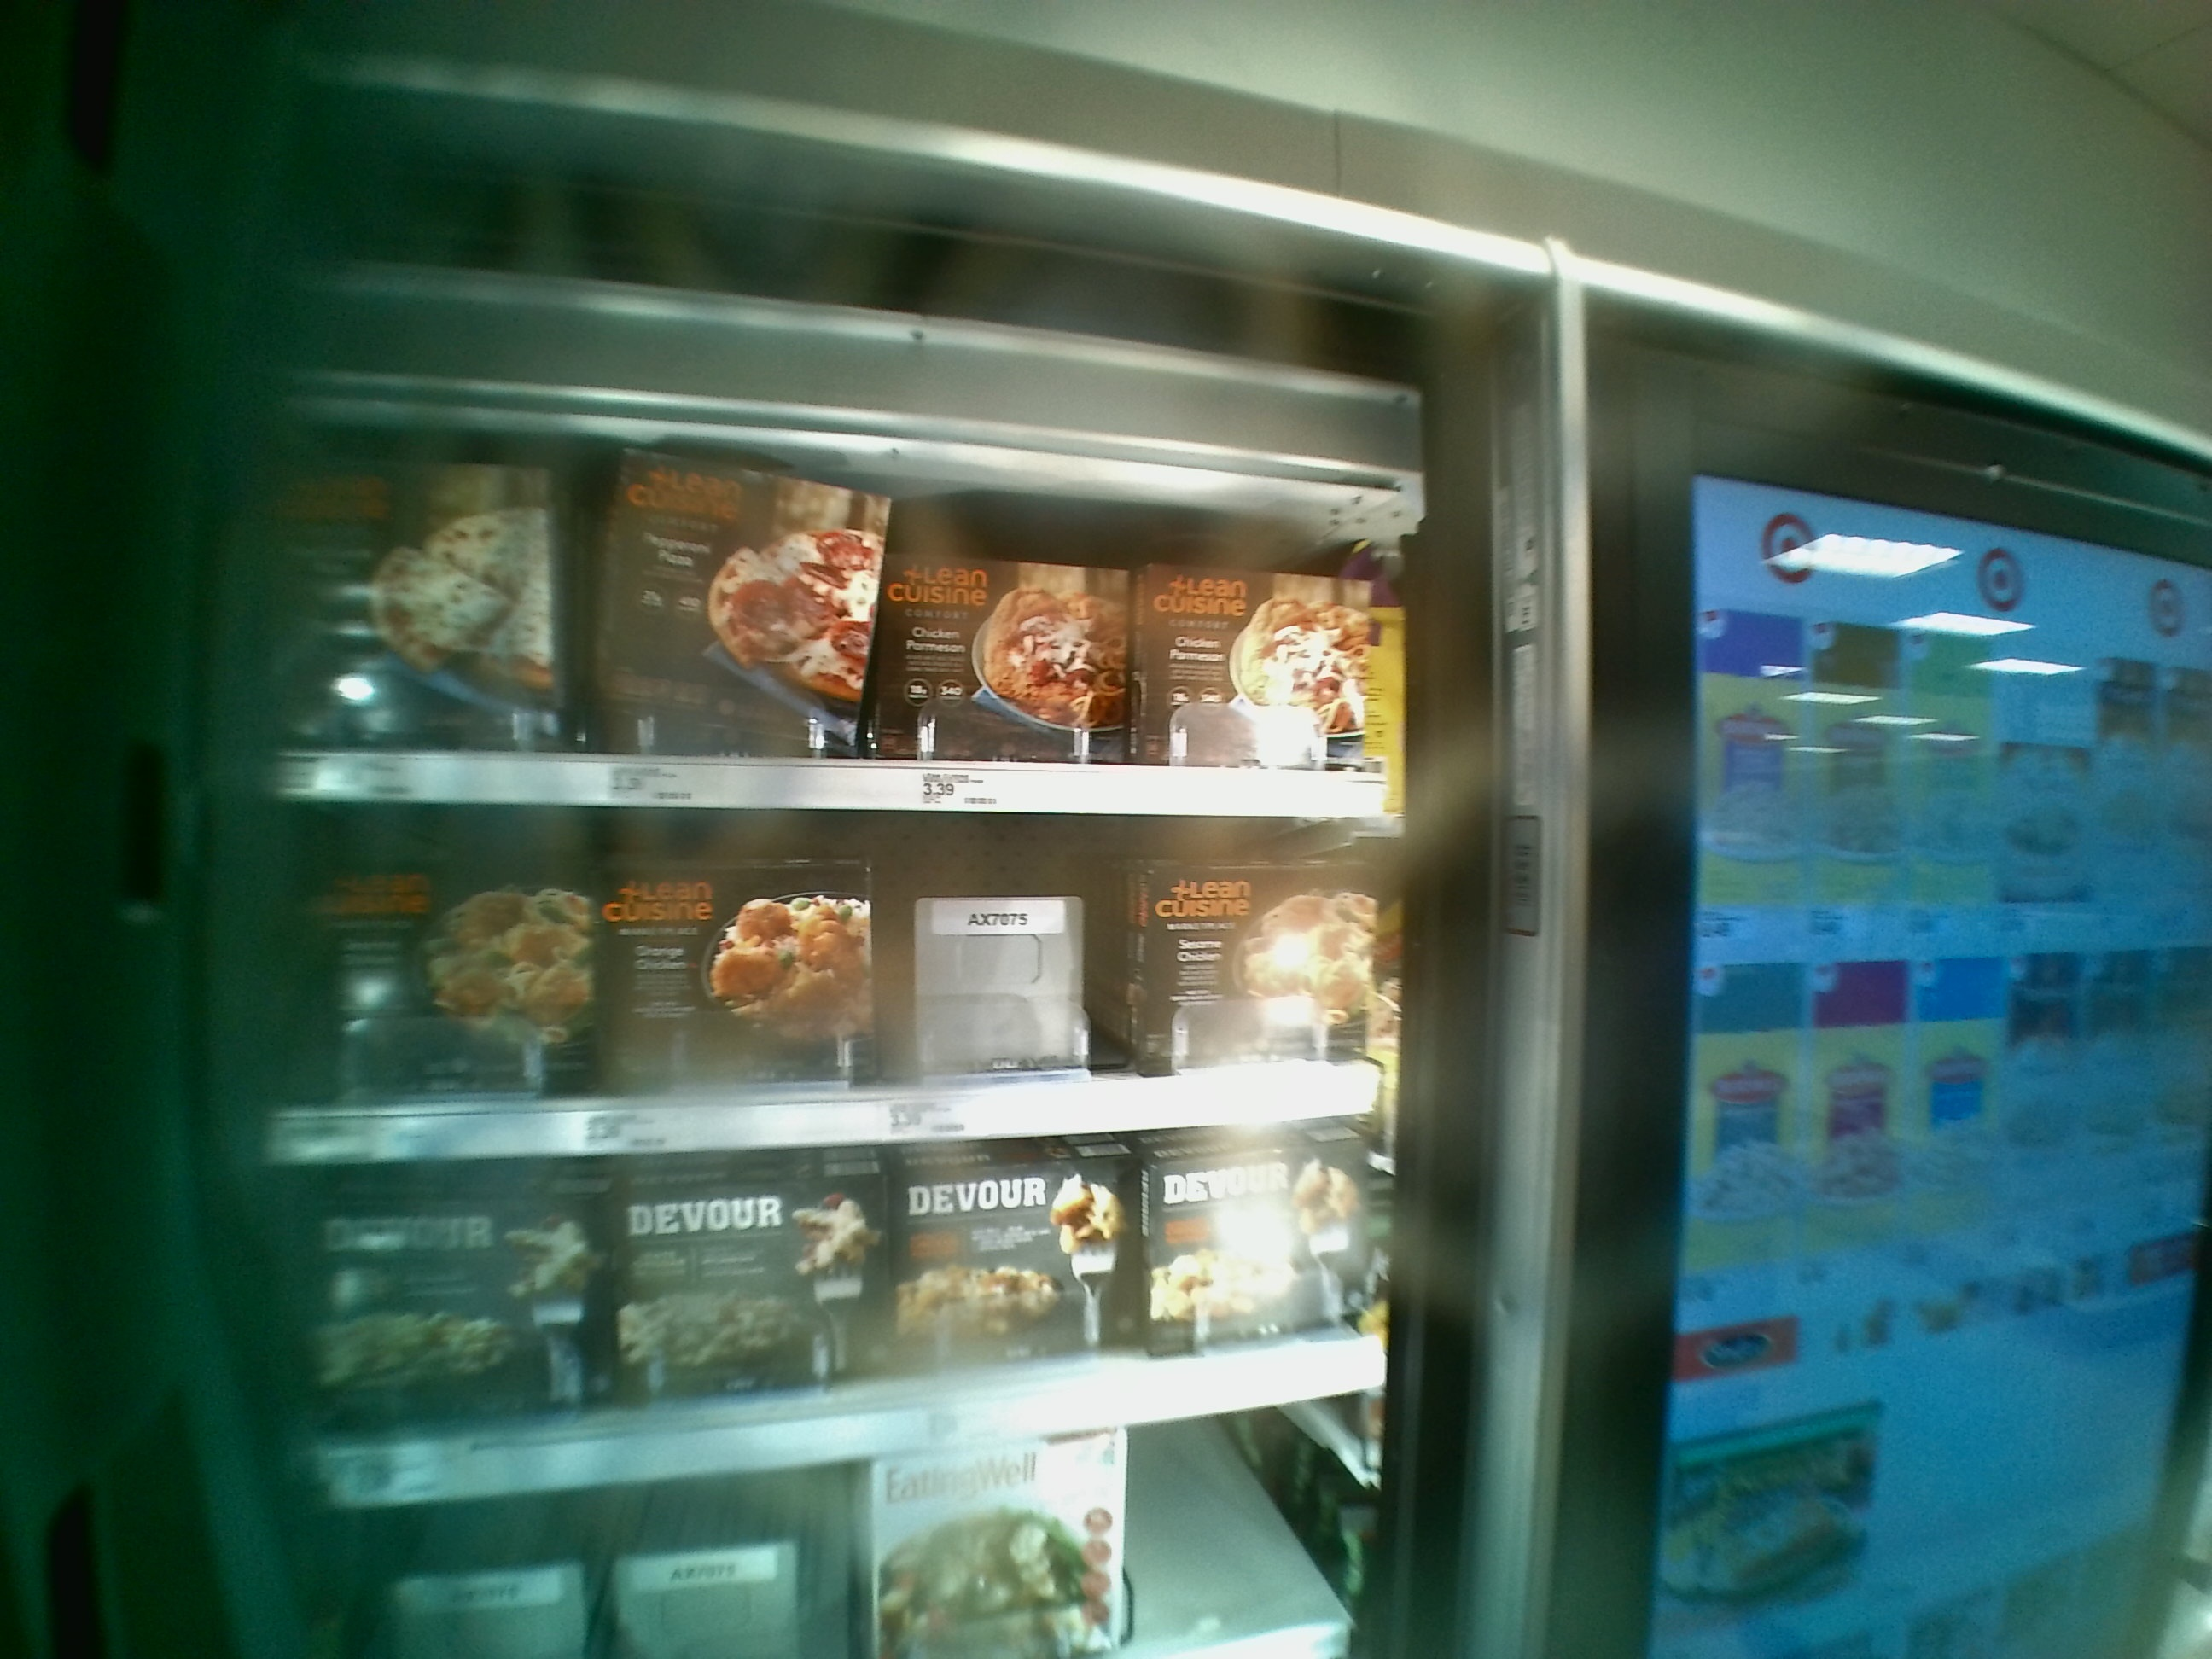Shelf: (263, 369, 1400, 823), (258, 1114, 1383, 1499), (251, 796, 1393, 1161)
